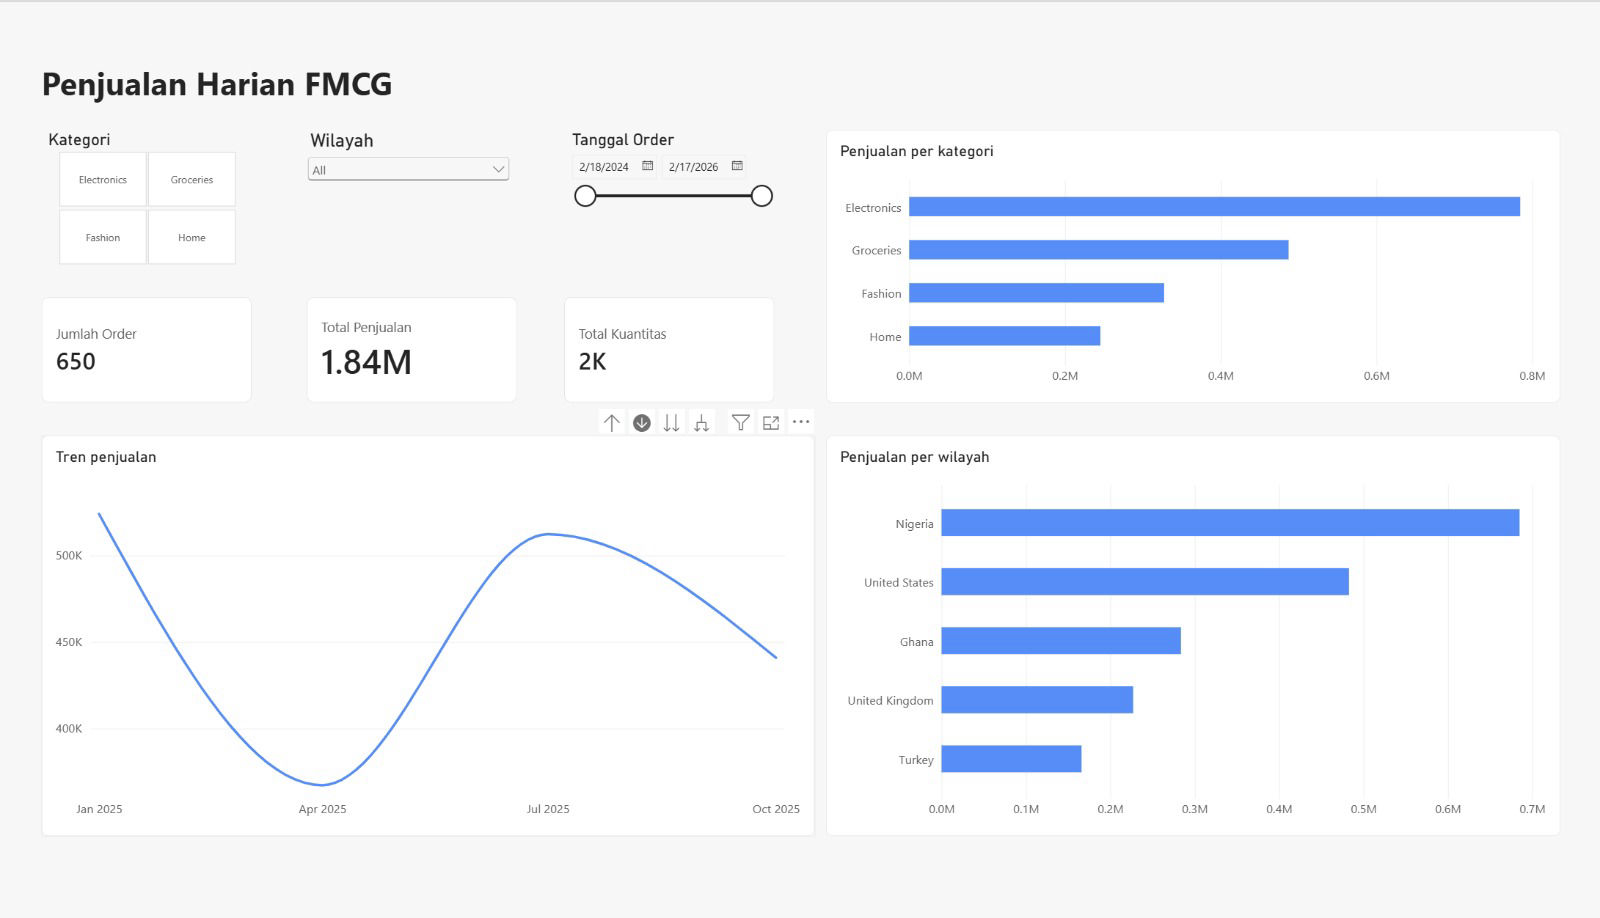

Layout of this report page (visuals, bound fields, positions):
{"tool":"powerbi","page":{"name":"Overview","canvas":[1920,1080],"ordinal":0},"visuals":[{"type":"textbox","box":[68.6,69.9,436,58.2],"z":0},{"type":"cardVisual","fields":{"Data":["Sum(mart_daily_sales.total_sales)"]},"box":[380.4,346.7,247.1,124.2],"z":1000},{"type":"cardVisual","fields":{"Data":["Sum(mart_daily_sales.n_orders)"]},"box":[68.6,346.7,247.1,124.2],"z":2000},{"type":"lineChart","title":"Tren penjualan","fields":{"Category":["mart_daily_sales.order_date.Variation.Date Hierarchy.Year","mart_daily_sales.order_date.Variation.Date Hierarchy.Quarter","mart_daily_sales.order_date.Variation.Date Hierarchy.Month","mart_daily_sales.order_date.Variation.Date Hierarchy.Day"],"Y":["Sum(mart_daily_sales.total_sales)"]},"box":[68.6,509.8,908.2,470.9],"z":3000},{"type":"barChart","title":"Penjualan per kategori ","fields":{"Category":["mart_daily_sales.category"],"Y":["Sum(mart_daily_sales.total_sales)"]},"box":[990.2,149.9,863,320.9],"z":4000},{"type":"listSlicer","fields":{"Values":["mart_daily_sales.category"]},"box":[68.6,150.1,247.1,150.1],"z":5000},{"type":"listSlicer","fields":{"Values":["mart_daily_sales.region"]},"box":[376.5,150.1,247.1,150.1],"z":6000},{"type":"listSlicer","fields":{"Values":["mart_daily_sales.order_date.Variation.Date Hierarchy.Year","mart_daily_sales.order_date.Variation.Date Hierarchy.Quarter","mart_daily_sales.order_date.Variation.Date Hierarchy.Month","mart_daily_sales.order_date.Variation.Date Hierarchy.Day"]},"box":[683.1,150.1,248.4,150.1],"z":7000},{"type":"cardVisual","fields":{"Data":["Sum(mart_daily_sales.total_qty)"]},"box":[683.1,346.7,247.1,124.2],"z":8000},{"type":"barChart","title":"Penjualan per wilayah","fields":{"Category":["mart_daily_sales.region"],"Y":["Sum(mart_daily_sales.total_sales)"]},"box":[989.8,509.8,863,470.9],"z":9000}]}

Visuals, with their boxes in screenshot pixels (x1, y1, x2, y2), scaled from the page's 1920x1080 canvas onto the 1600x918 screenshot:
textbox: BBox(57, 59, 421, 109)
cardVisual - Sum(mart_daily_sales.total_sales): BBox(317, 295, 523, 400)
cardVisual - Sum(mart_daily_sales.n_orders): BBox(57, 295, 263, 400)
"Tren penjualan" lineChart: BBox(57, 433, 814, 834)
"Penjualan per kategori " barChart: BBox(825, 127, 1544, 400)
listSlicer - mart_daily_sales.category: BBox(57, 128, 263, 255)
listSlicer - mart_daily_sales.region: BBox(314, 128, 520, 255)
listSlicer - mart_daily_sales.order_date.Variation.Date Hierarchy.Year x mart_daily_sales.order_date.Variation.Date Hierarchy.Quarter: BBox(569, 128, 776, 255)
cardVisual - Sum(mart_daily_sales.total_qty): BBox(569, 295, 775, 400)
"Penjualan per wilayah" barChart: BBox(825, 433, 1544, 834)
